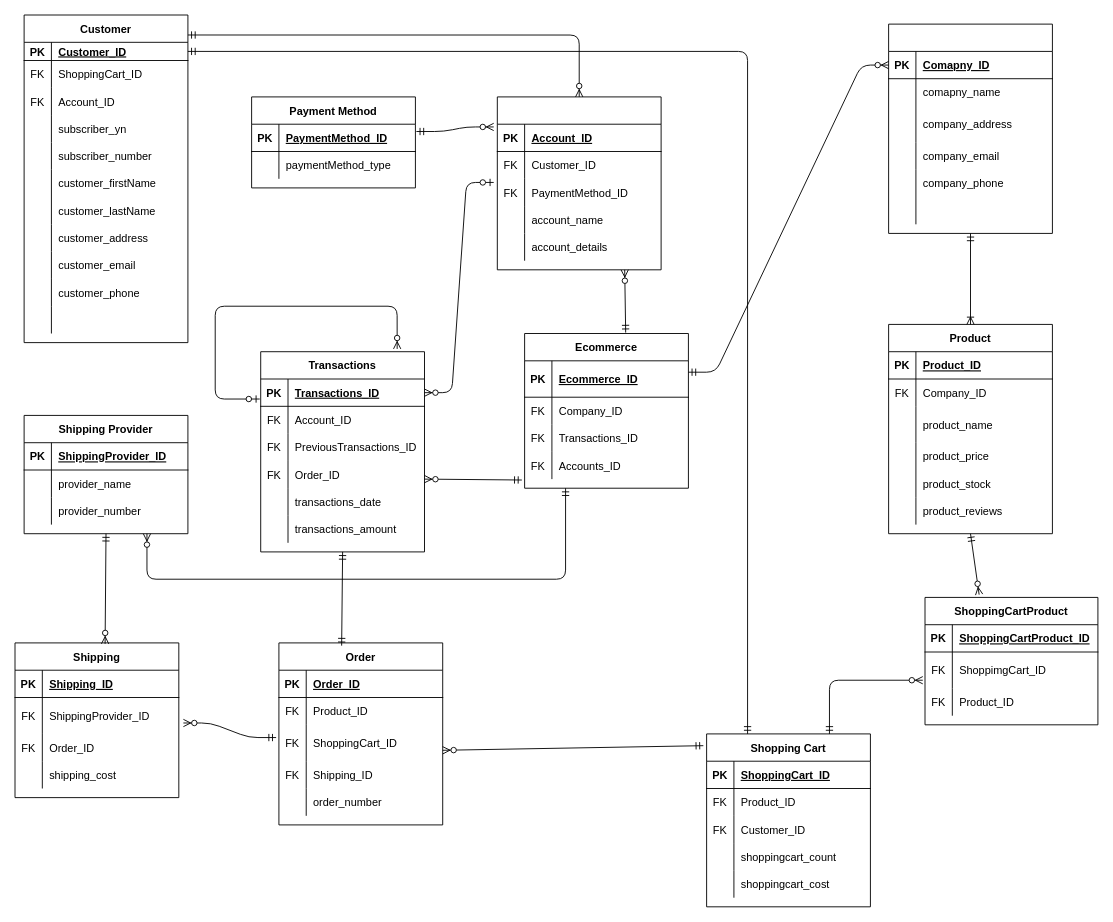
Some shapes in this 1113 by 922 pixel diagram are drawn without their labels. The shapes that lost their labels are listed below. From the top down, each one's box as (x1, y1, x2, y2) in pixels, then its label:
(888, 23, 1052, 233): Producer
(496, 96, 661, 270): Accounts
